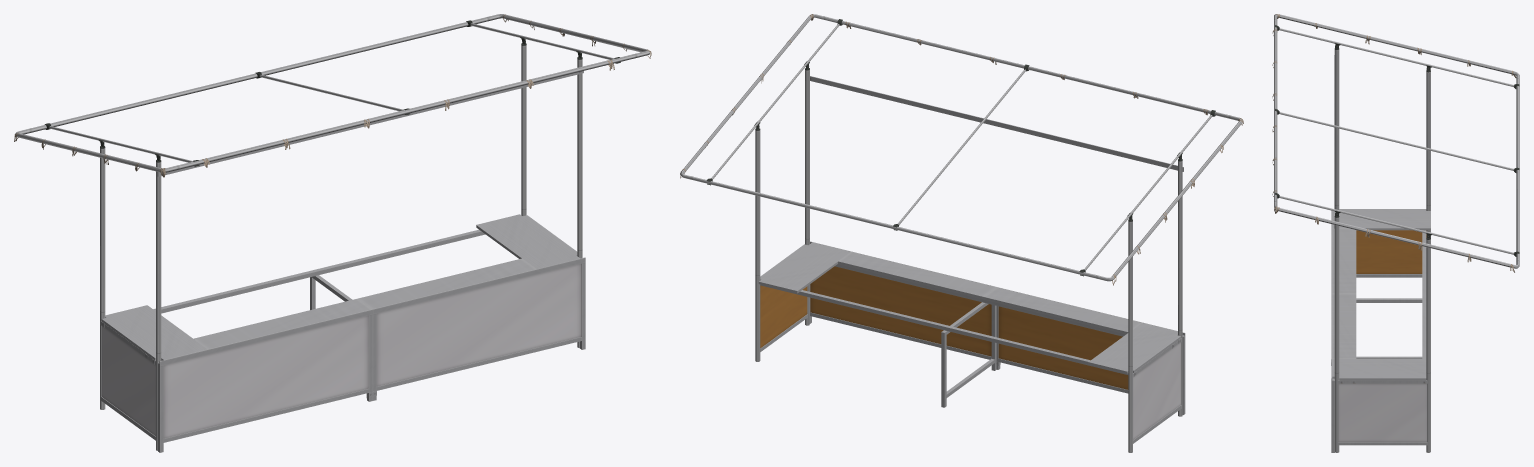
Rendered from jsf_4P_s04_c04_t03.fbx.
3 renders of one model, left to right at view 1: azimuth 30°, elevation 25°; view 2: azimuth 150°, elevation 25°; view 3: azimuth 270°, elevation 25°, orthographic. The views are drawn at different scales.
Parts seen in each view (by area): view 1: Base_s04_c04, Pillar4_s04, Table_4P_s04_t03, Rope_4P_s04; view 2: Base_s04_c04, Pillar4_s04, Table_4P_s04_t03, Support; view 3: Pillar4_s04, Base_s04_c04, Table_4P_s04_t03, Support, Rope_4P_s04.
Boxes of the visible parts, x1=… form: Base_s04_c04: x1=100, y1=257, x2=585, y2=452; Pillar4_s04: x1=14, y1=14, x2=649, y2=450; Table_4P_s04_t03: x1=101, y1=214, x2=579, y2=364; Rope_4P_s04: x1=14, y1=14, x2=651, y2=177; Base_s04_c04: x1=760, y1=241, x2=1185, y2=443; Pillar4_s04: x1=680, y1=14, x2=1242, y2=452; Table_4P_s04_t03: x1=758, y1=242, x2=1181, y2=376; Support: x1=941, y1=302, x2=996, y2=407; Pillar4_s04: x1=1274, y1=14, x2=1519, y2=452; Base_s04_c04: x1=1331, y1=210, x2=1427, y2=452; Table_4P_s04_t03: x1=1332, y1=209, x2=1430, y2=383; Support: x1=1356, y1=298, x2=1422, y2=358; Rope_4P_s04: x1=1272, y1=14, x2=1516, y2=272.
Bounding box in the file's own units: 395 × 243 × 211.
